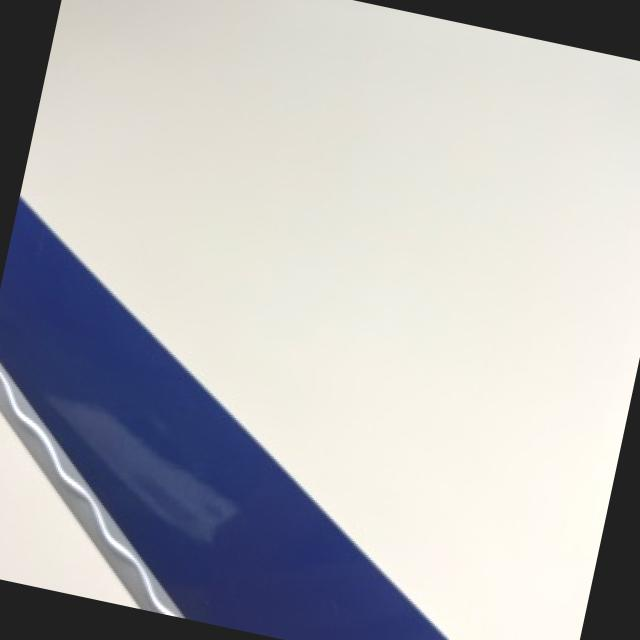healthy: (0, 195, 446, 640)
